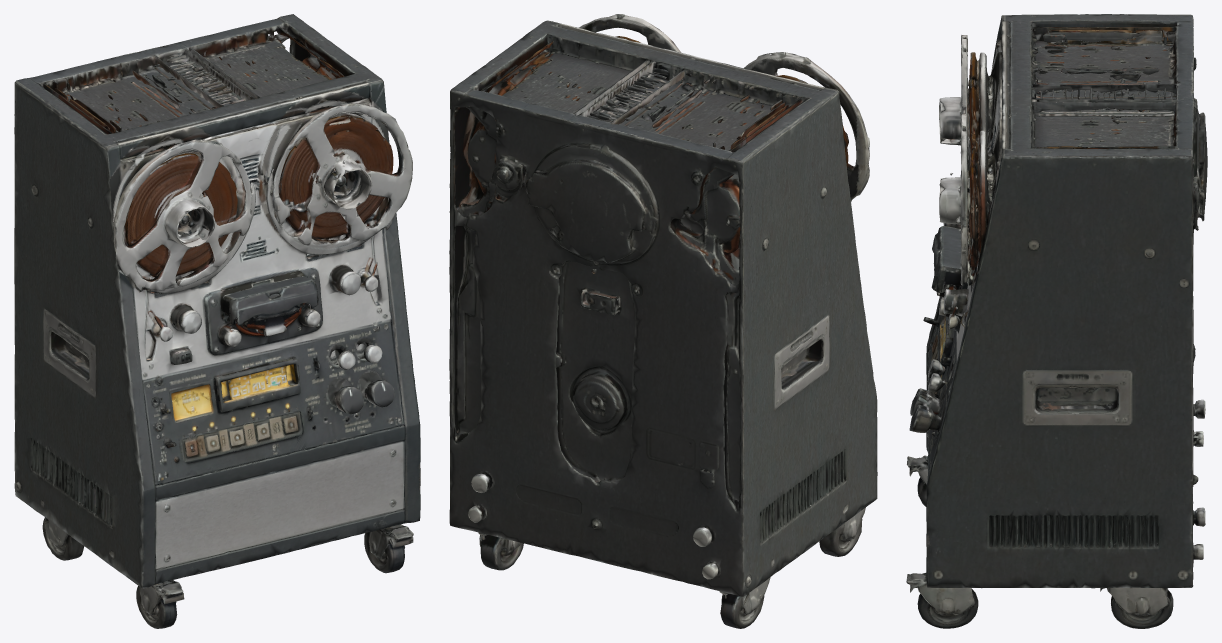
Rendered from ReelToReel.glb.
3 views of the same model, side by side, from view 1: azimuth 30°, elevation 25°; view 2: azimuth 150°, elevation 25°; view 3: azimuth 270°, elevation 25° (orthographic). The views are drawn at different scales.
Parts seen in each view (by area): view 1: texture_mapping; view 2: texture_mapping; view 3: texture_mapping.
Boxes of the visible parts, x1,y1,x2,y2 form: texture_mapping: (14,14,420,628); texture_mapping: (449,14,877,628); texture_mapping: (906,14,1207,628).
Bounding box in the file's own units: 0.6647 × 1 × 0.5581.
Materials: 1 (1 with a texture image).
